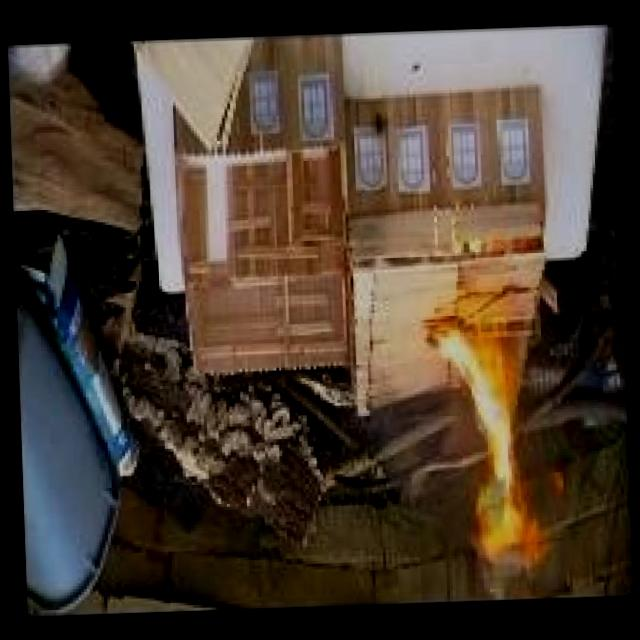fire: (410, 301, 572, 594)
